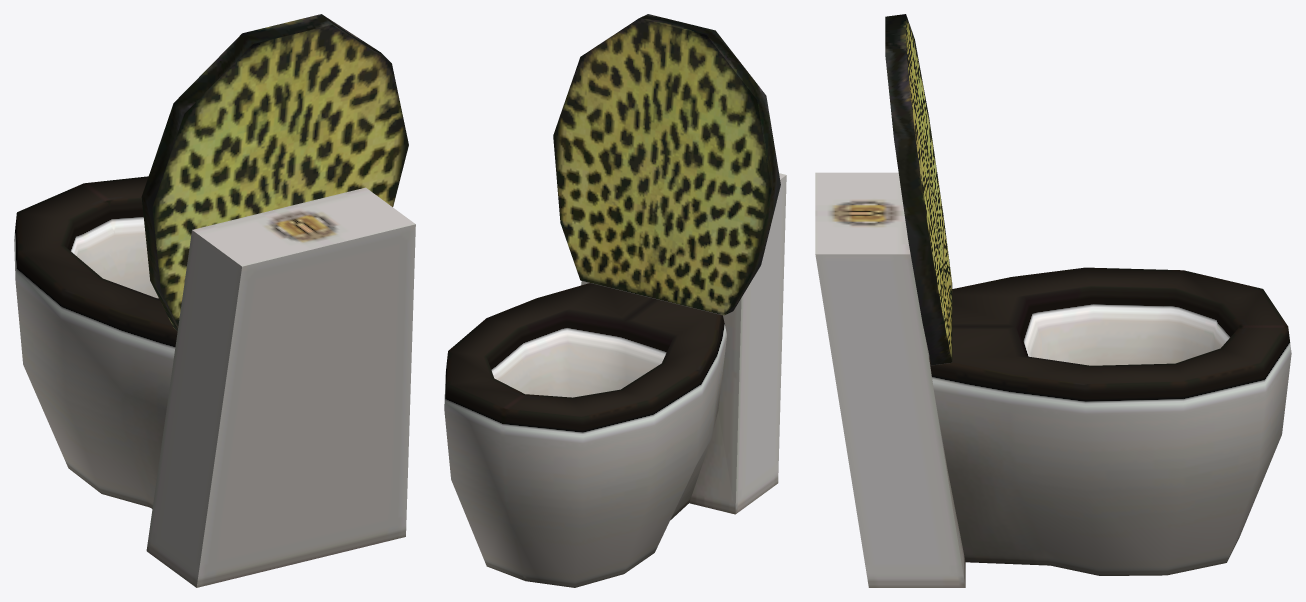
Rendered from furni_0200084_01.FBX.
The picture shows the model from 3 angles, left to right: view 1: azimuth 30°, elevation 25°; view 2: azimuth 150°, elevation 25°; view 3: azimuth 270°, elevation 25°; orthographic projection. The views are drawn at different scales.
Visible parts, largest first — view 1: furni_0200084_01; view 2: furni_0200084_01; view 3: furni_0200084_01.
Boxes of the visible parts, box(x1,y1,x2,y2) form: furni_0200084_01: box(14, 14, 415, 587); furni_0200084_01: box(444, 14, 786, 587); furni_0200084_01: box(815, 14, 1291, 587).
Size of the model in its own units: 54.1 by 106 by 90.2.
1 material, 1 textured.
